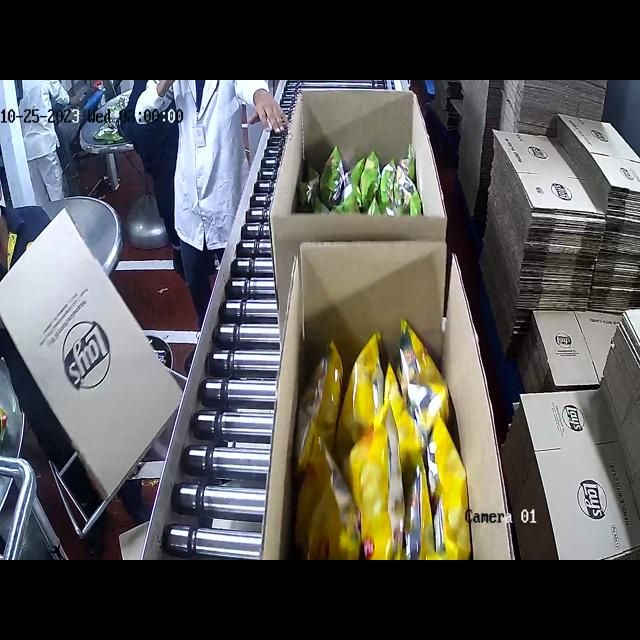salted: (304, 324, 439, 560)
yogurt: (303, 156, 413, 224)
